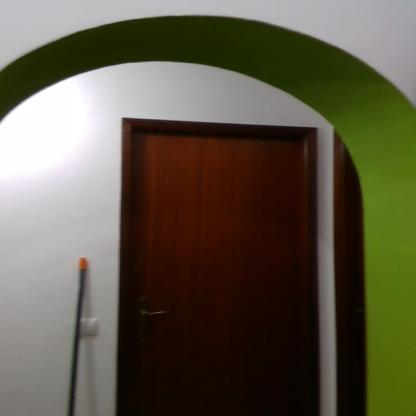closed: (101, 90, 345, 413)
